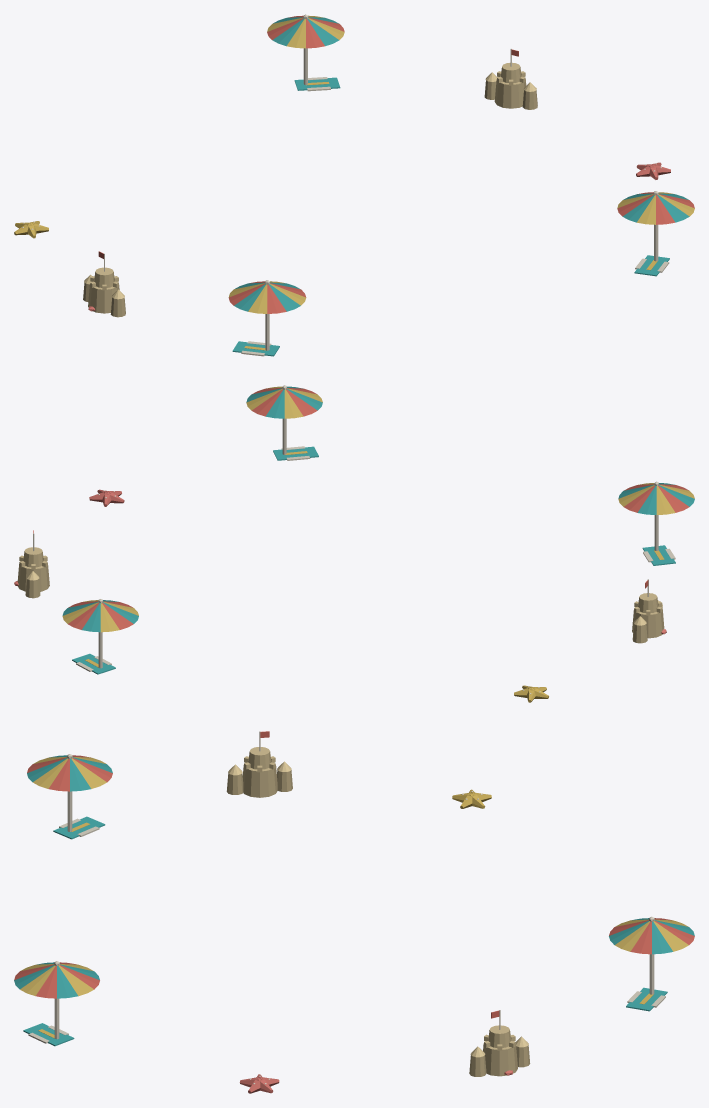
The model's file is goo_jar_props@beach.fbx.
3 renders of one model, top to bottom at view 1: azimuth 30°, elevation 25°; view 2: azimuth 150°, elevation 25°; view 3: azimuth 270°, elevation 25°, orthographic. The views are drawn at different scales.
Parts seen in each view (by area): view 1: goo_jar_props; view 2: goo_jar_props; view 3: goo_jar_props.
Part boxes in pixels (left/top/right/bottom): goo_jar_props: left=14, top=14, right=694, bottom=356; goo_jar_props: left=14, top=385, right=694, bottom=702; goo_jar_props: left=14, top=731, right=694, bottom=1093.
Bounding box in the file's own units: 68.84 × 8.26 × 63.2.
